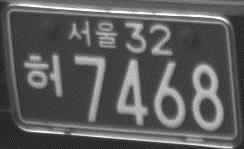2: (147, 22, 175, 57)
3: (122, 19, 147, 56)
4: (114, 58, 150, 127)
6: (152, 60, 186, 129)
7: (71, 53, 108, 123)
8: (190, 63, 227, 133)
서울_O: (67, 20, 119, 50)
허: (23, 53, 65, 97)
